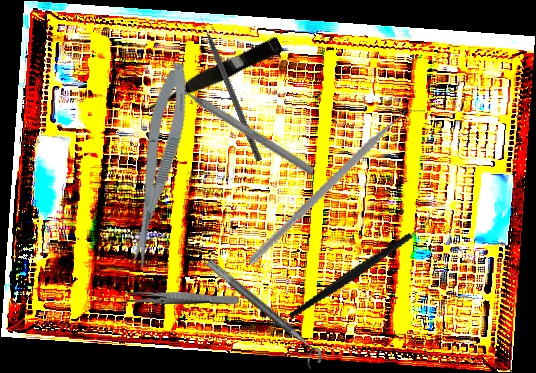Chopper: (248, 76, 426, 298), (273, 209, 448, 321)
Dressing Forceps: (123, 290, 240, 306)
Fixation Ring: (197, 258, 327, 372)
Hook Surgical: (198, 14, 264, 162)
Micro Scissor: (116, 59, 198, 271), (137, 33, 284, 119)
Pusher: (158, 71, 316, 177)
